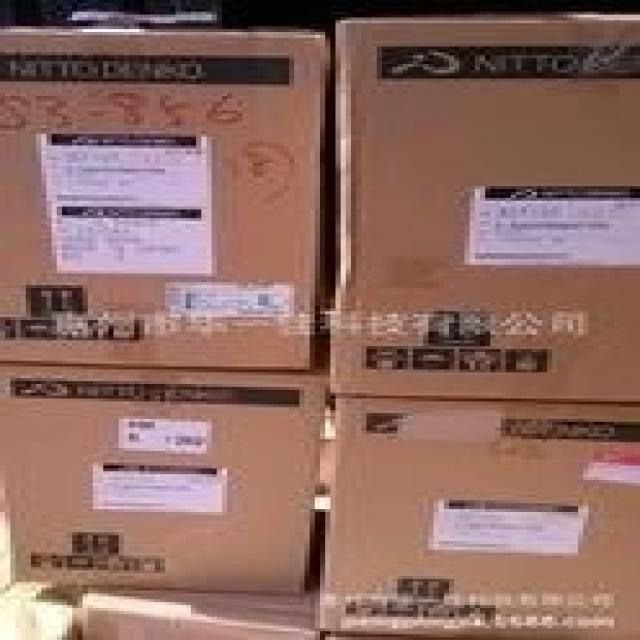box: (332, 6, 635, 401), (0, 25, 334, 366), (318, 394, 634, 637), (0, 364, 331, 595), (78, 589, 325, 637)
